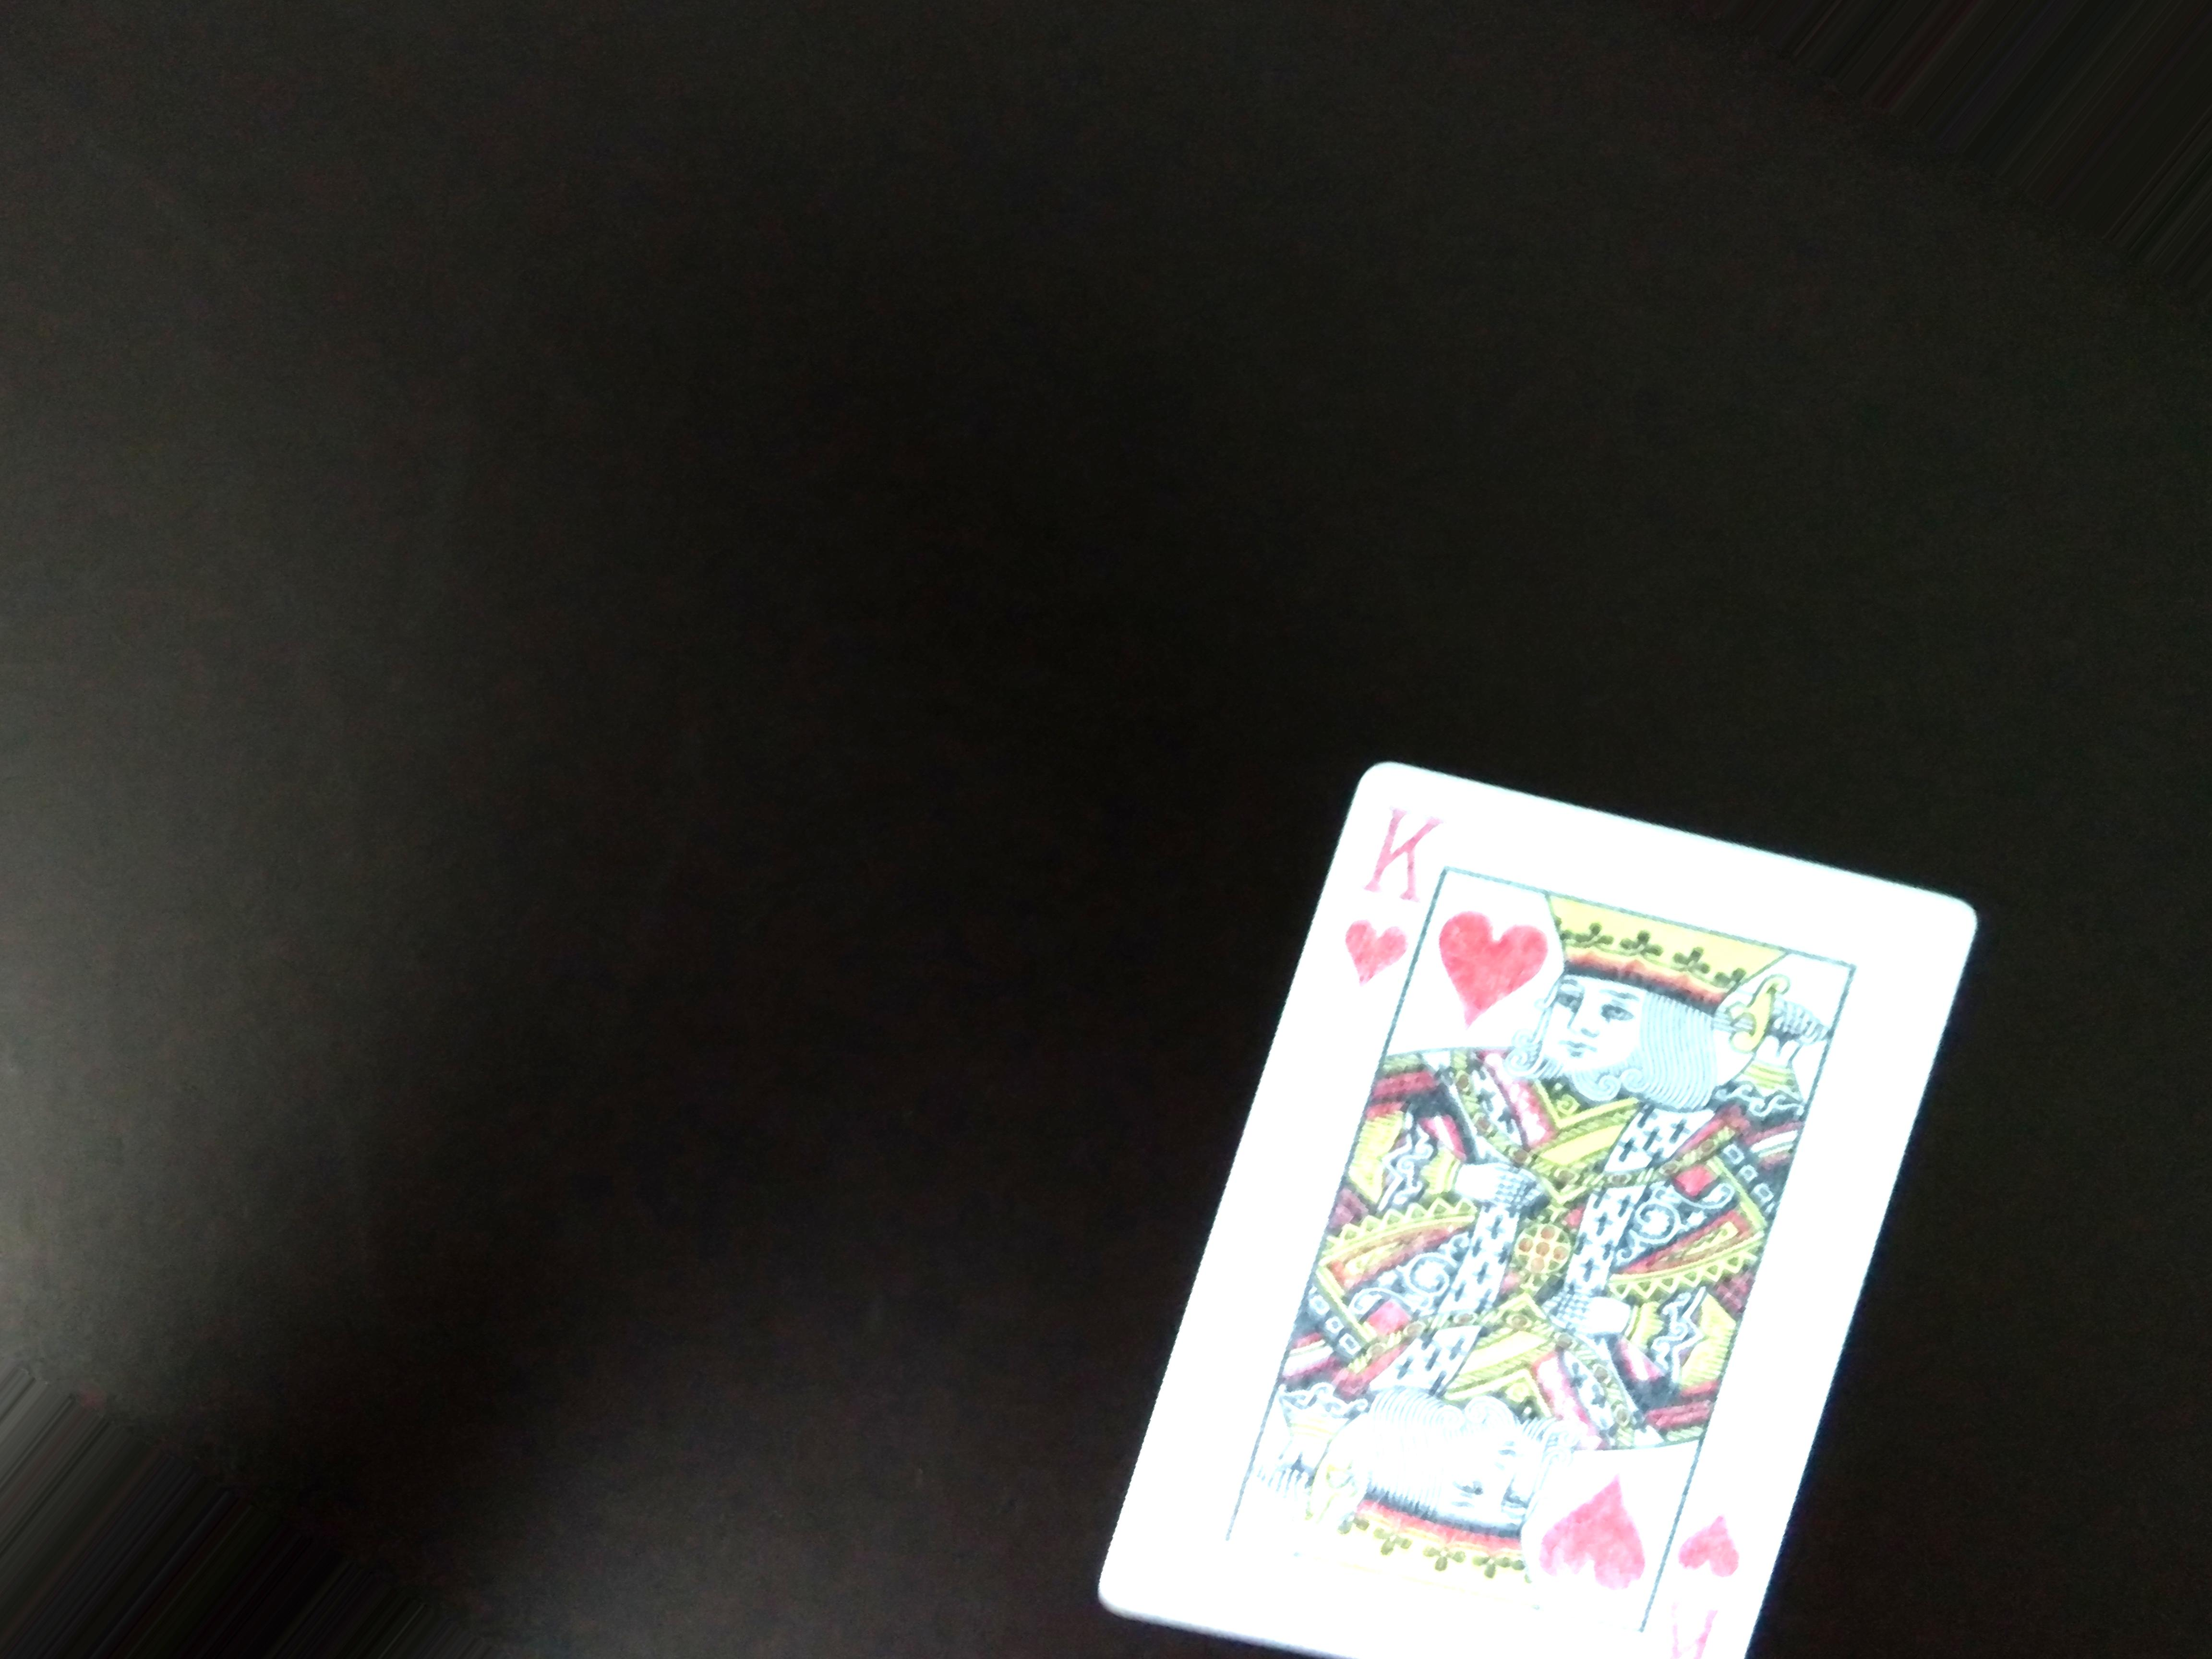KH: (1318, 767, 1444, 1009)
